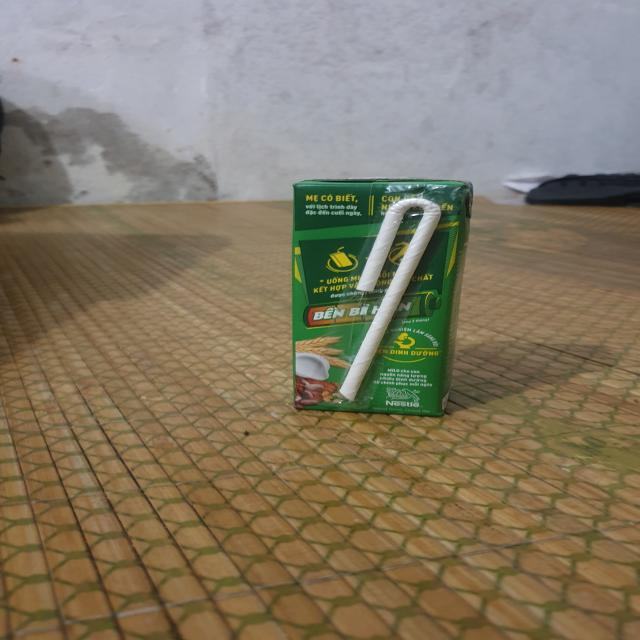Milo: (283, 178, 479, 416)
